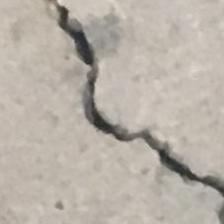Crack: (35, 2, 224, 224)
